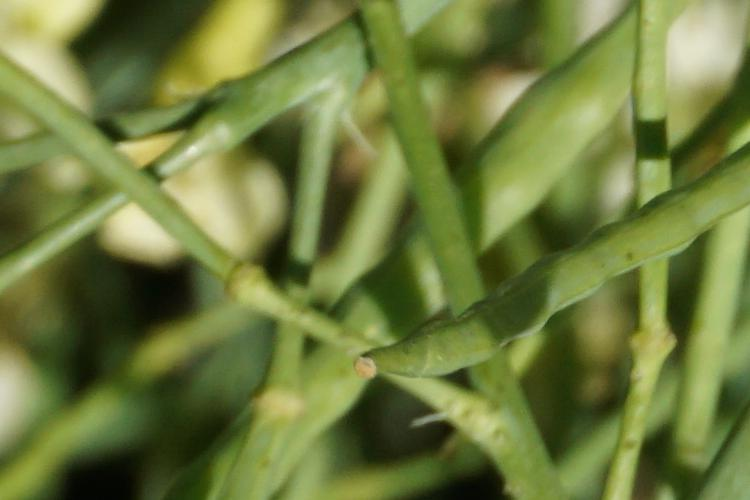pod: (317, 230, 649, 389)
